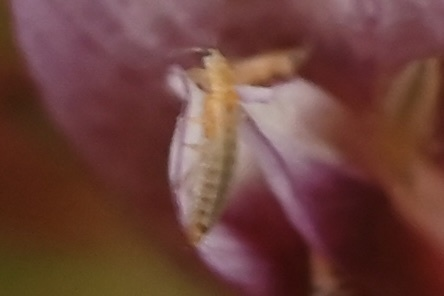tiny_pests: (139, 21, 290, 263)
